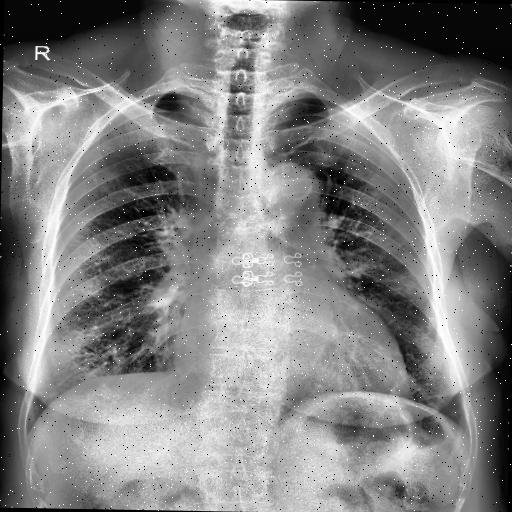0- Aortic enlargement: (252, 159, 322, 238), (252, 162, 320, 212), (259, 160, 319, 212)
3- Cardiomegaly: (172, 326, 410, 420), (177, 312, 411, 396), (169, 333, 417, 402)
